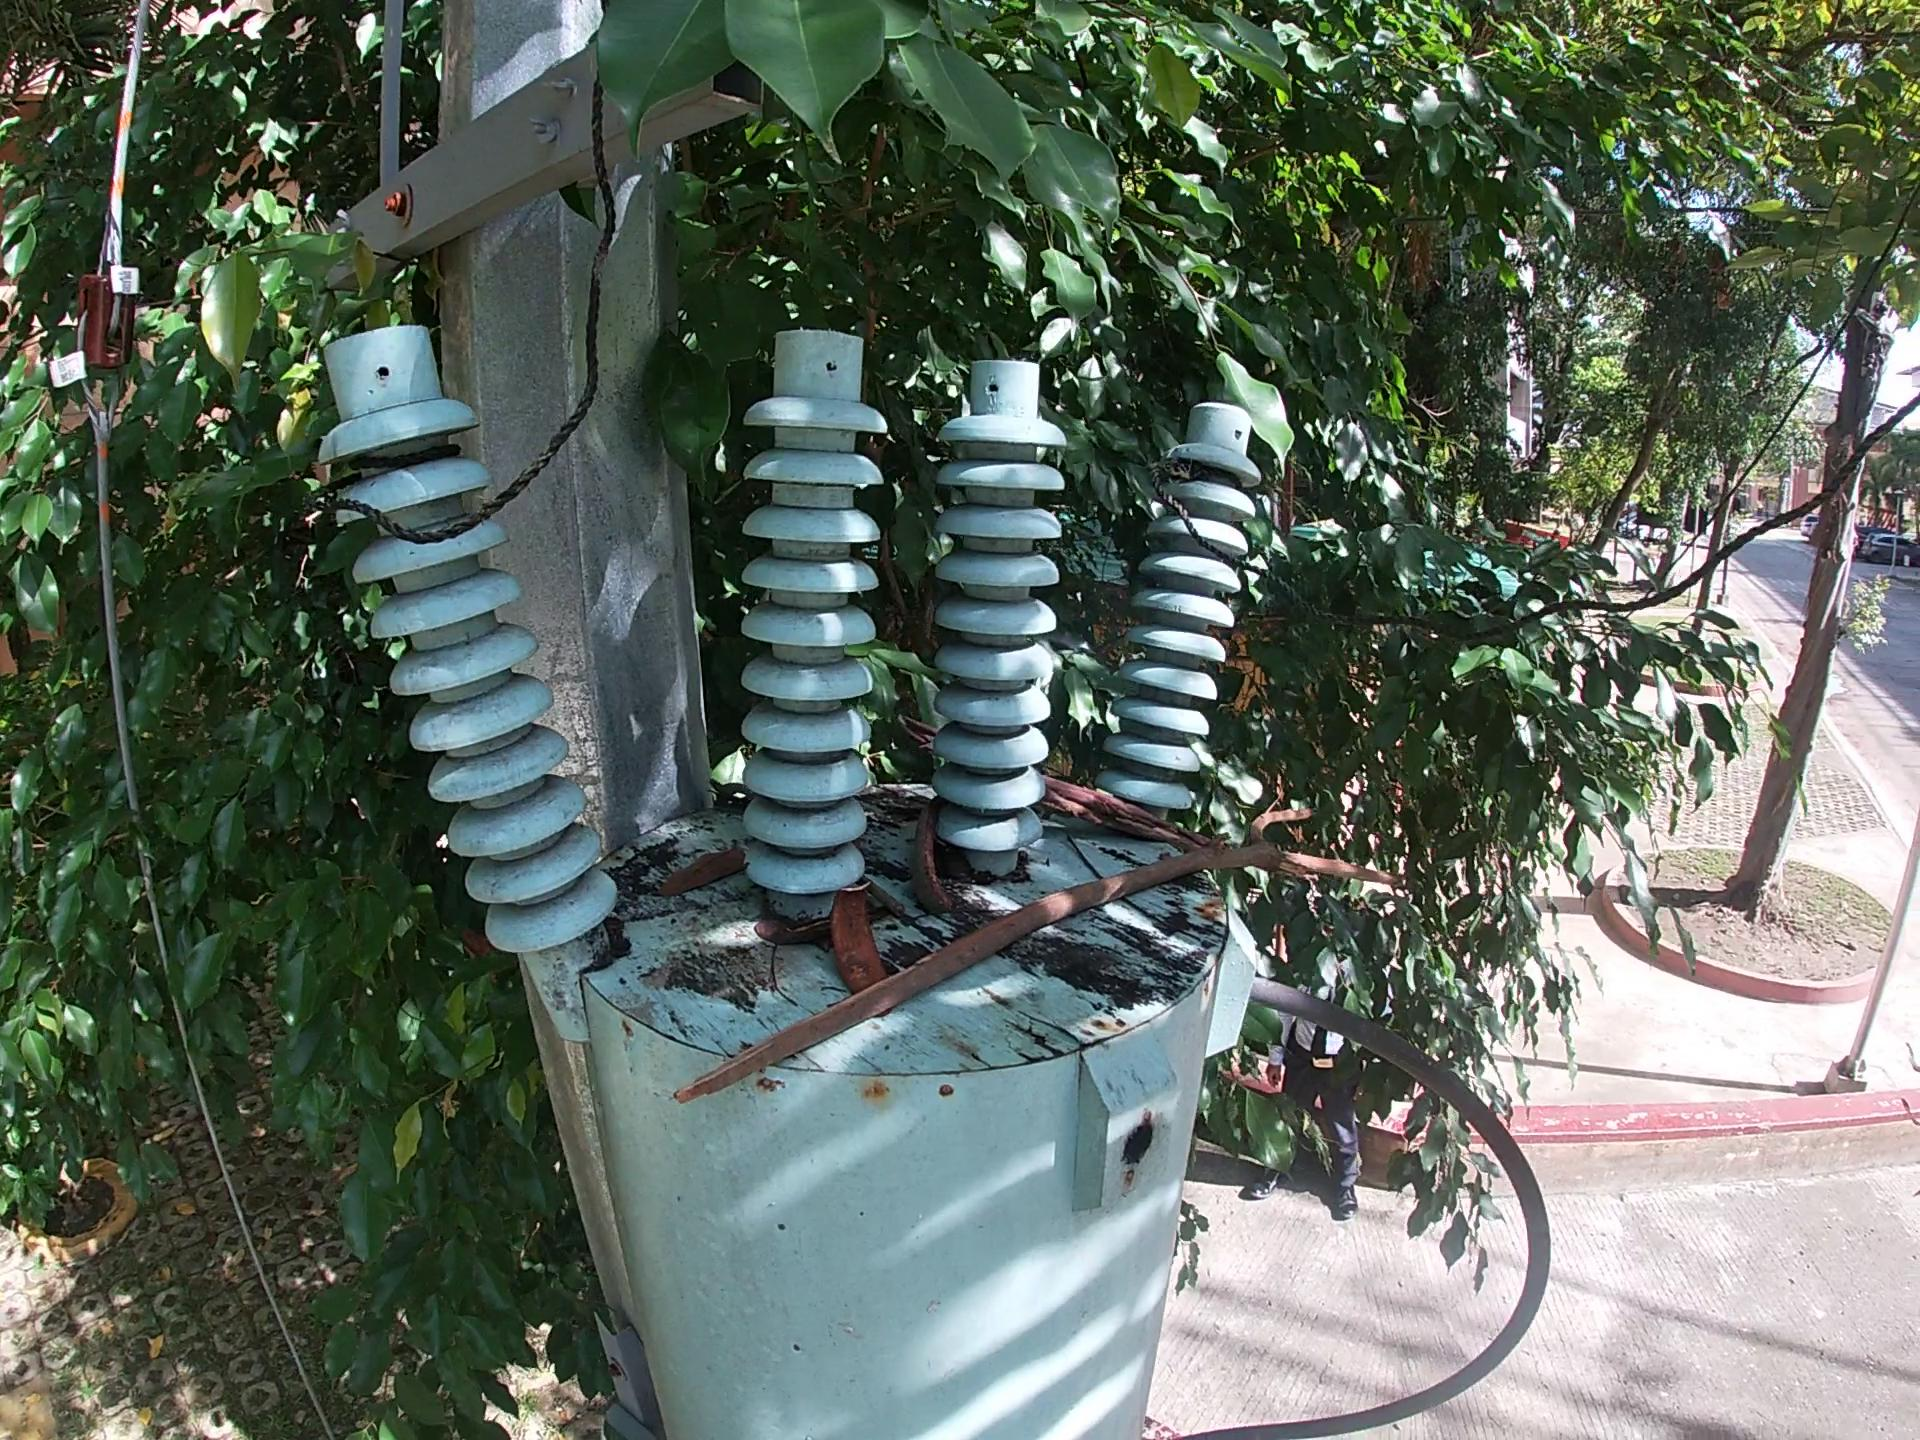leaf: (658, 838, 754, 902), (748, 902, 825, 956)
mahogany fruit: (903, 793, 958, 923), (825, 879, 884, 997)
tree branch: (664, 803, 1403, 1107), (1036, 776, 1219, 855), (859, 874, 912, 917)
